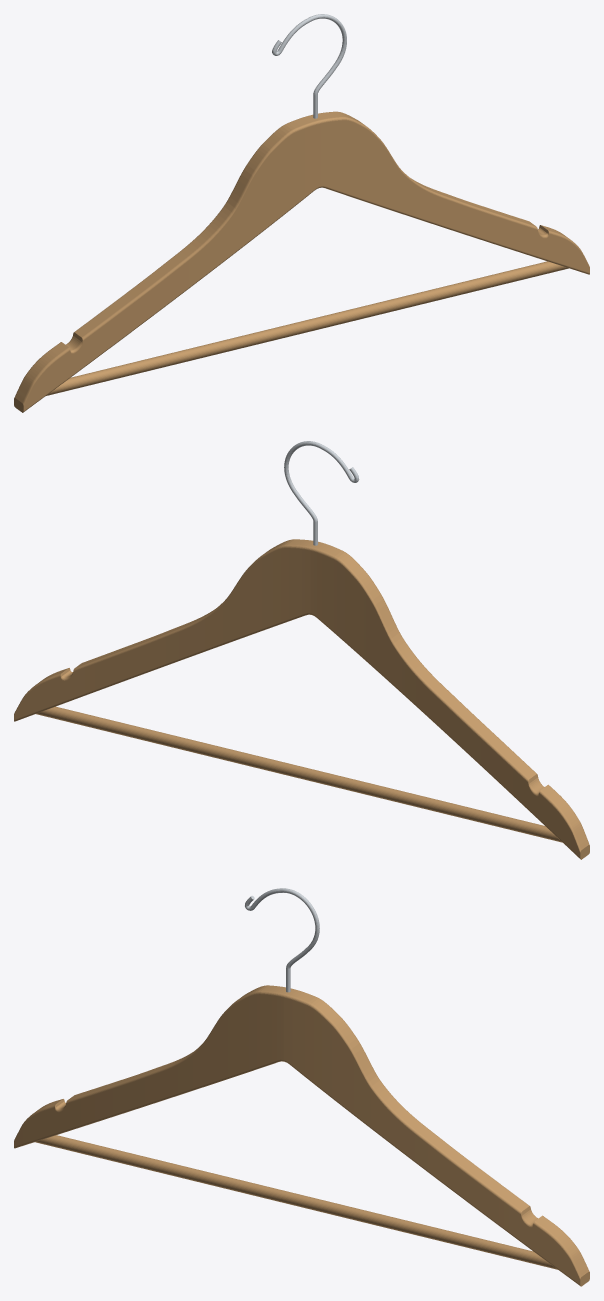
The picture shows the model from 3 angles, top to bottom: view 1: azimuth 30°, elevation 25°; view 2: azimuth 150°, elevation 25°; view 3: azimuth 330°, elevation 25°; orthographic projection.
Visible parts, largest first — view 1: Wooden_wishbone_shoulders_with_strap_notches, Fixed_round_wooden_trouser_bar, Open_metal_hook_seated_in_crown; view 2: Wooden_wishbone_shoulders_with_strap_notches, Fixed_round_wooden_trouser_bar, Open_metal_hook_seated_in_crown; view 3: Wooden_wishbone_shoulders_with_strap_notches, Fixed_round_wooden_trouser_bar, Open_metal_hook_seated_in_crown.
Boxes of the visible parts, x1,y1,x2,y2 form: Wooden_wishbone_shoulders_with_strap_notches: (14, 111, 589, 412); Fixed_round_wooden_trouser_bar: (46, 261, 568, 395); Open_metal_hook_seated_in_crown: (272, 14, 346, 118); Wooden_wishbone_shoulders_with_strap_notches: (14, 539, 589, 859); Fixed_round_wooden_trouser_bar: (36, 706, 562, 842); Open_metal_hook_seated_in_crown: (284, 441, 359, 545); Wooden_wishbone_shoulders_with_strap_notches: (14, 985, 589, 1286); Fixed_round_wooden_trouser_bar: (35, 1135, 557, 1269); Open_metal_hook_seated_in_crown: (245, 888, 319, 992).
Size of the model in its own units: 0.4318 by 0.2447 by 0.0307.
